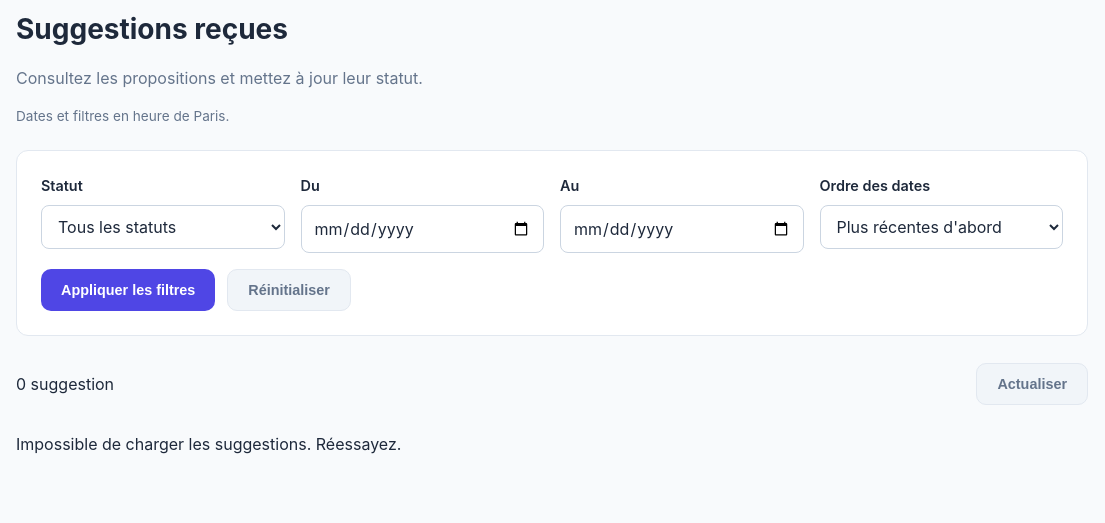
Test: DevSuggestionsView › annonce les erreurs de chargement et les resultats vides
Expected: the message "Impossible de charger les suggestions. Réessayez." is shown, top-left (16, 434), bottom-right (401, 454)
Click the button "Actualiser".
click(1032, 384)  # box top-left (976, 363), bottom-right (1088, 405)
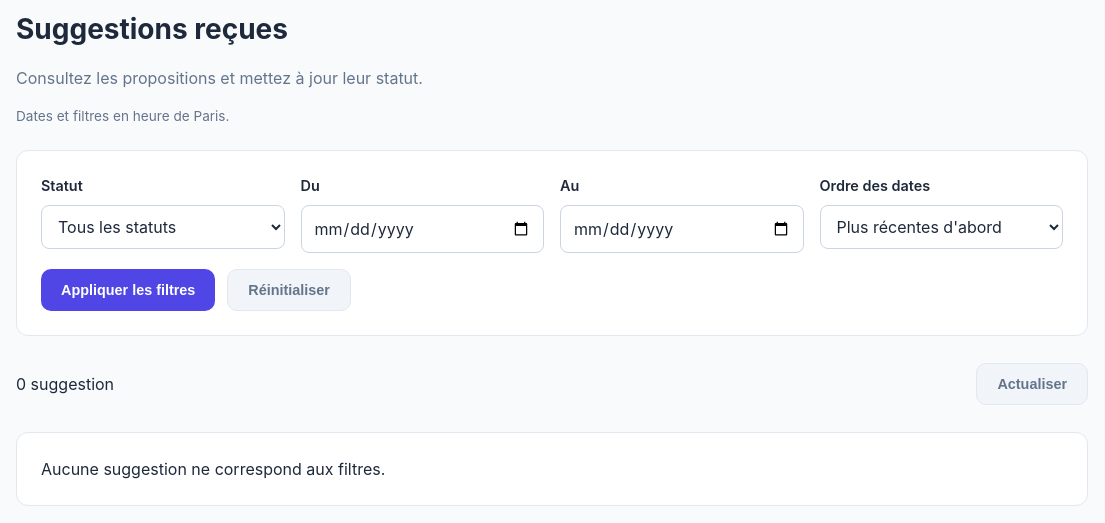
Expected: the text with class "empty-state" shows "Aucune suggestion", top-left (41, 459), bottom-right (385, 479)
